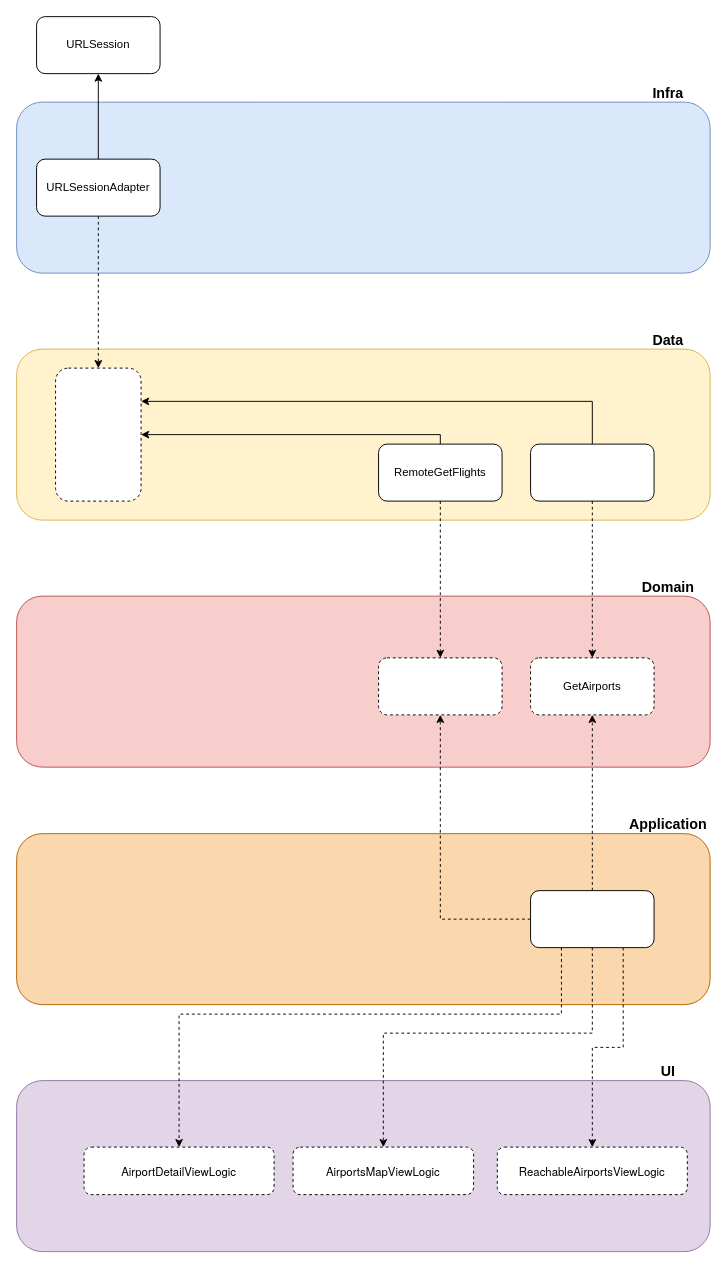
This 727x1268 diagram has some shape labels left out. The box of each missing label's shape, as (x1, y1, x2, y2) in pixels:
GetFlights: (378, 657, 502, 715)
HttpClient: (55, 367, 141, 501)
Presentation: (530, 890, 654, 948)
RemoteGetAirports: (530, 443, 654, 501)
